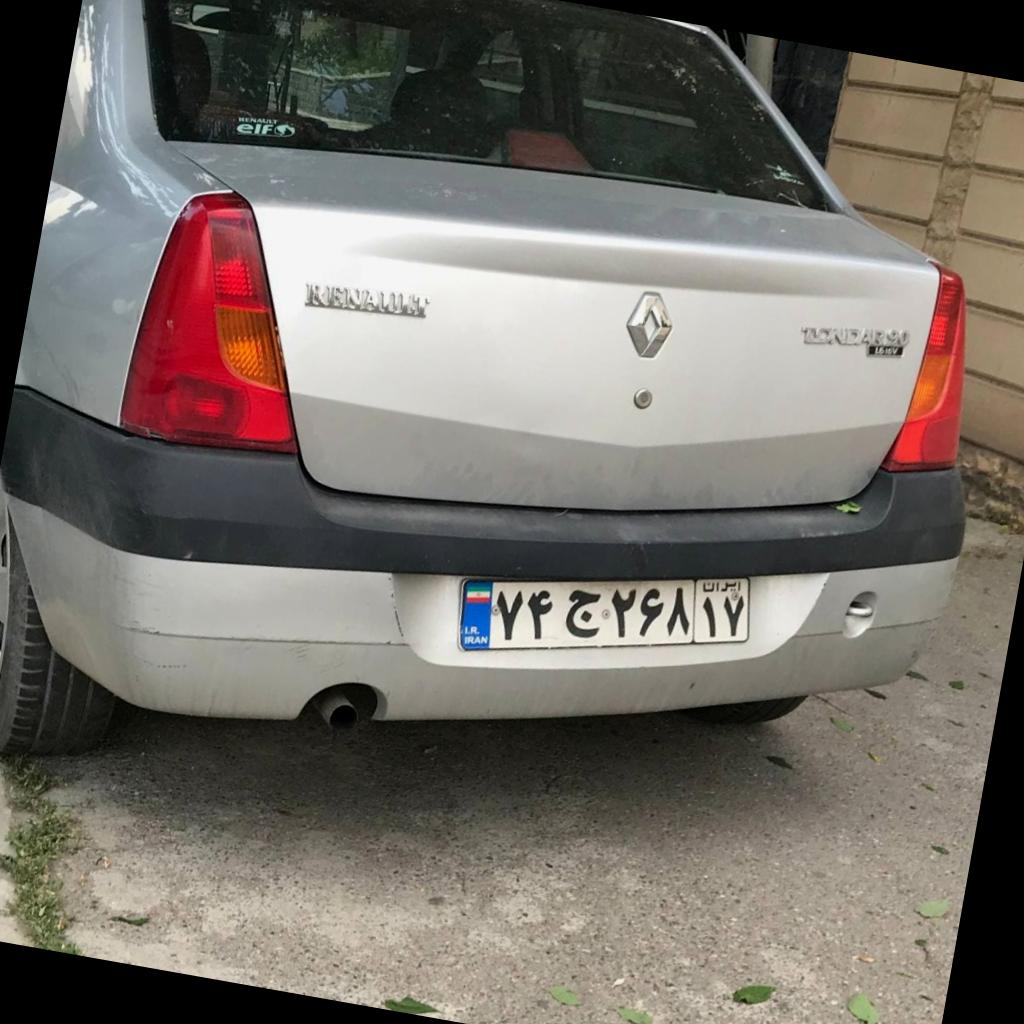Plates: (459, 576, 750, 650)
